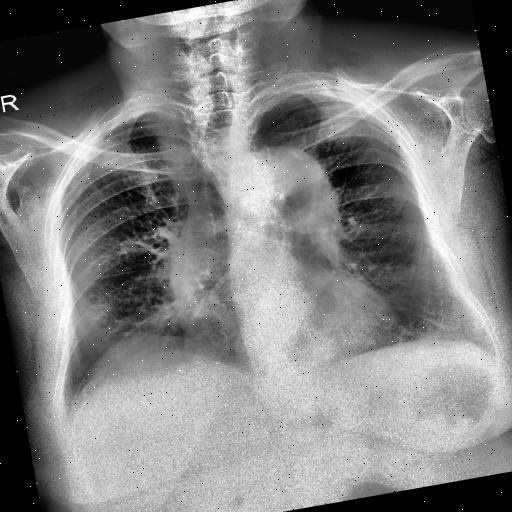0- Aortic enlargement: (221, 136, 343, 240), (234, 139, 338, 236), (246, 137, 336, 219)
3- Cardiomegaly: (178, 286, 414, 401), (174, 270, 410, 384)
